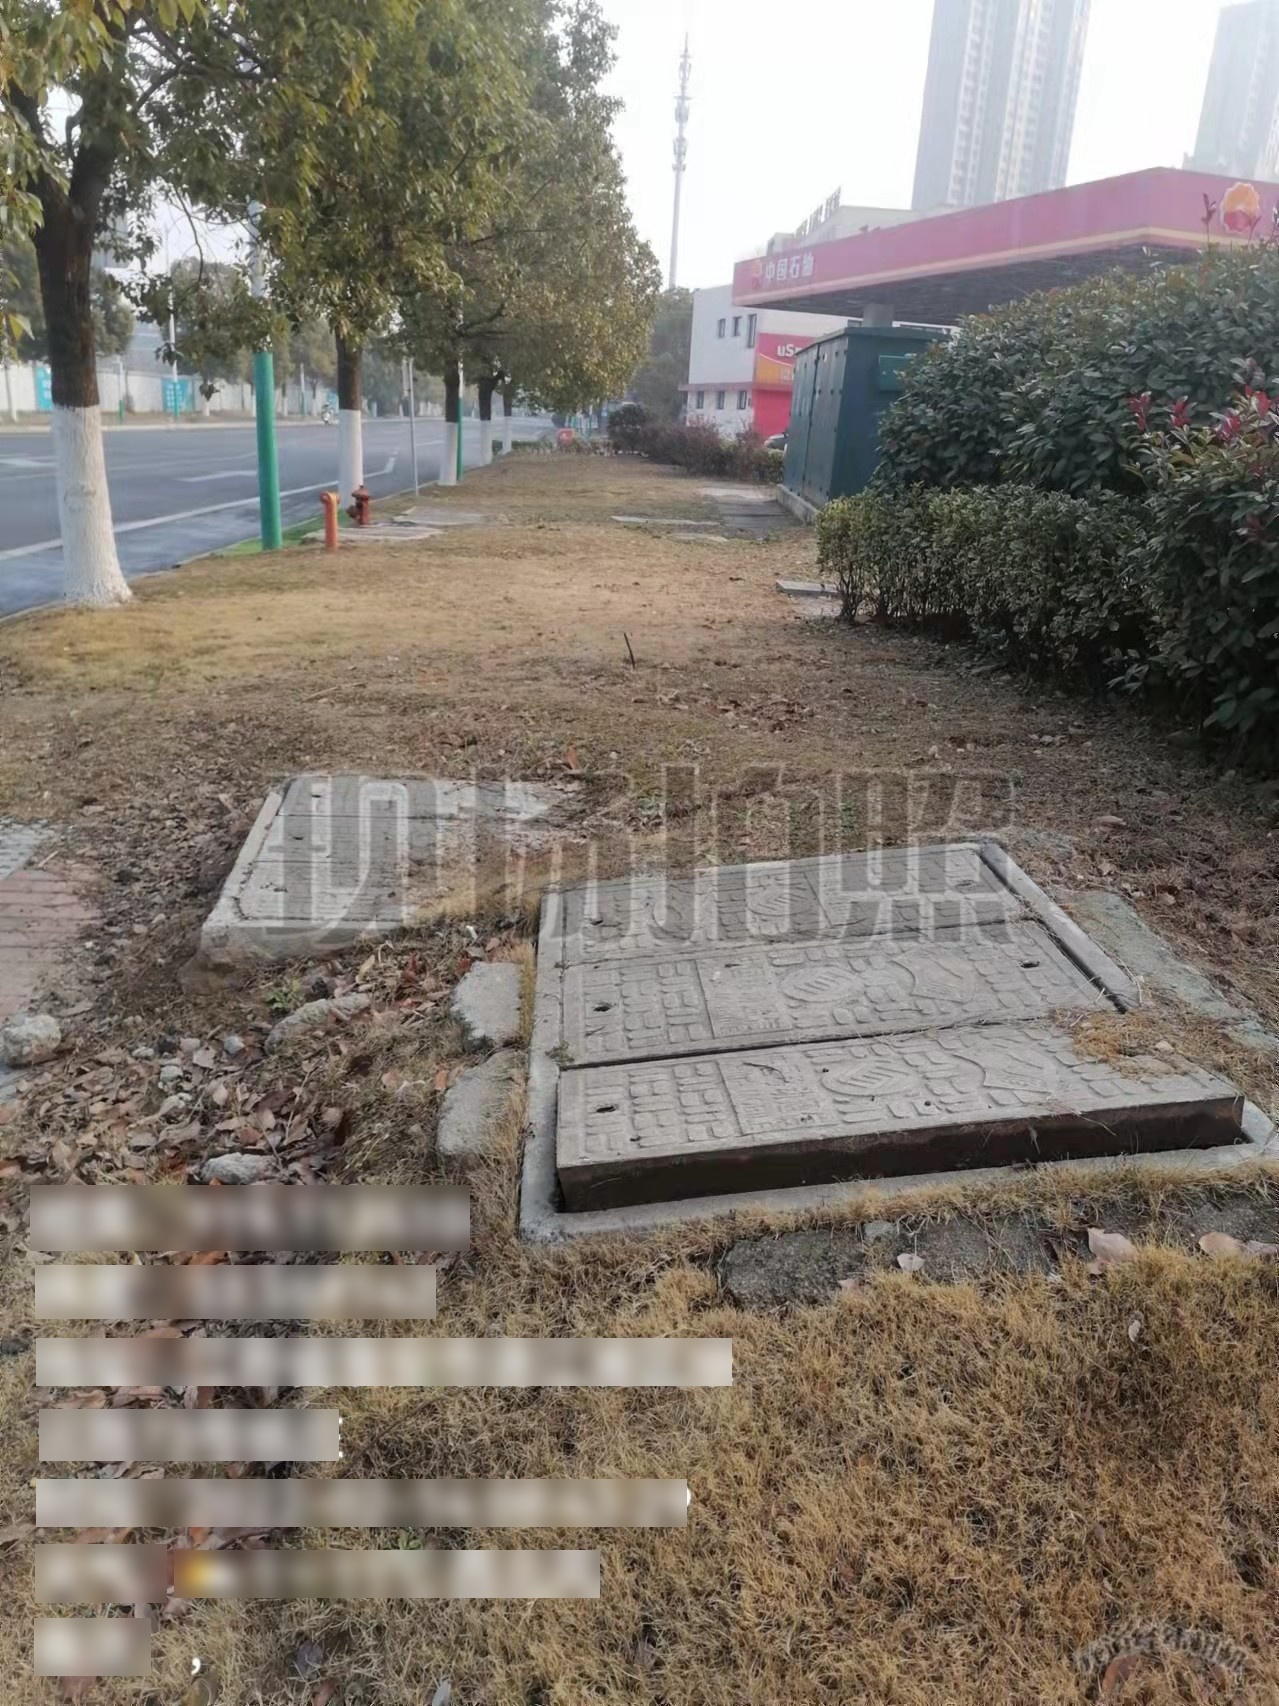good: (197, 766, 599, 969)
uncovered: (521, 842, 1279, 1244)
